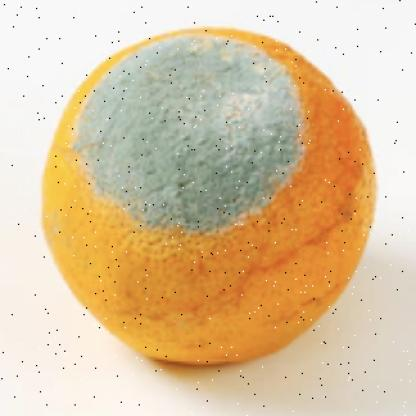rotten: (45, 29, 377, 368)
